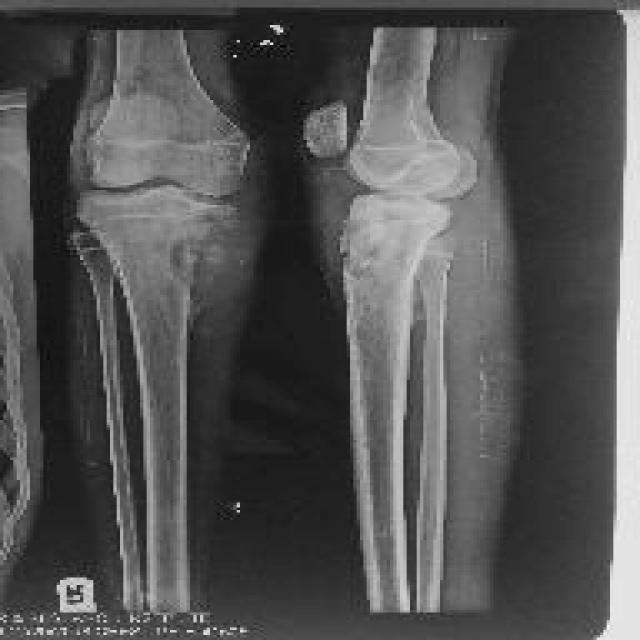bone-cancer: (328, 212, 416, 275), (173, 205, 224, 283)
